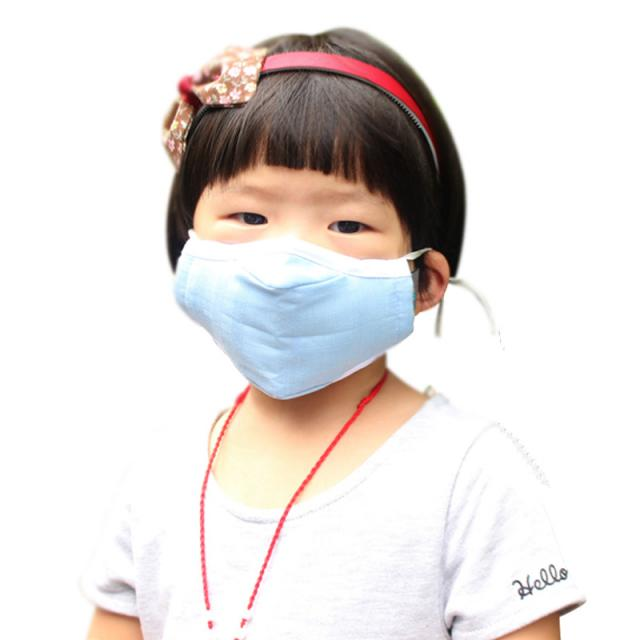mask: (183, 112, 412, 400)
